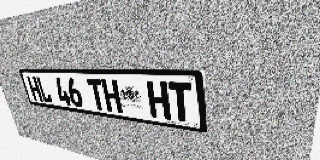4: (53, 77, 72, 106)
6: (65, 78, 84, 108)
H: (146, 81, 171, 120), (101, 79, 123, 113), (26, 76, 43, 102)
L: (35, 76, 53, 103)
T: (168, 82, 194, 123), (86, 78, 107, 111)
